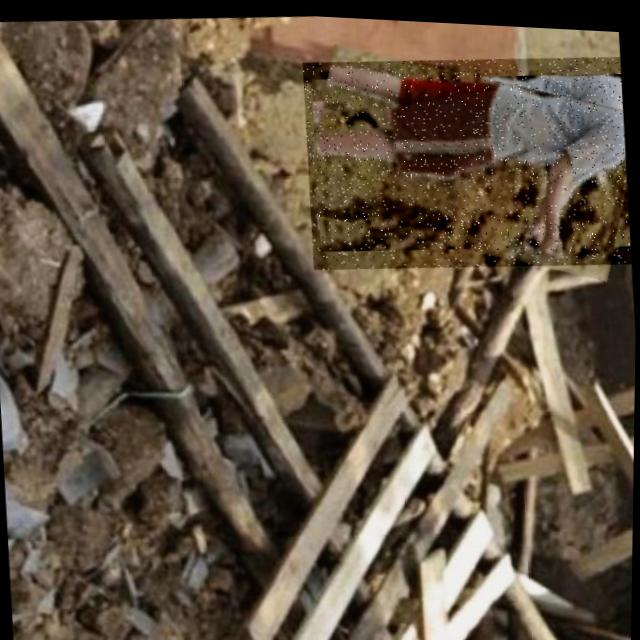Person in Rubble: (299, 36, 634, 279)
